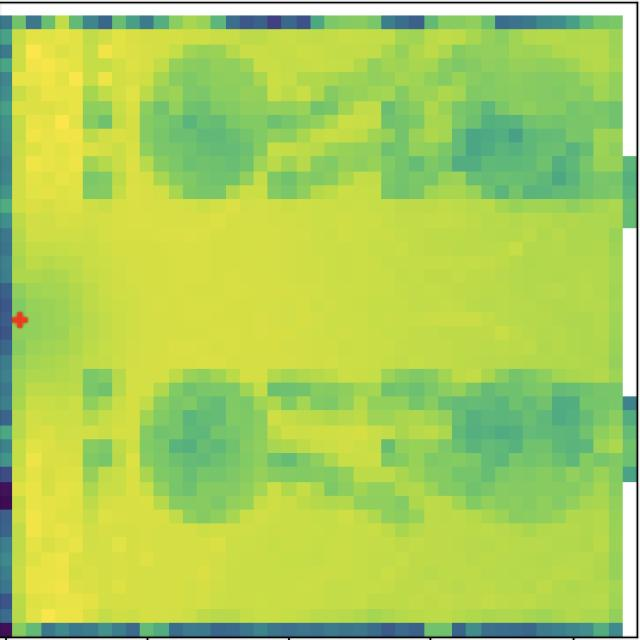Concrete: (438, 39, 598, 203)
Glass: (134, 41, 278, 203)
Metal: (432, 365, 597, 523)
Wood: (137, 365, 276, 531)
